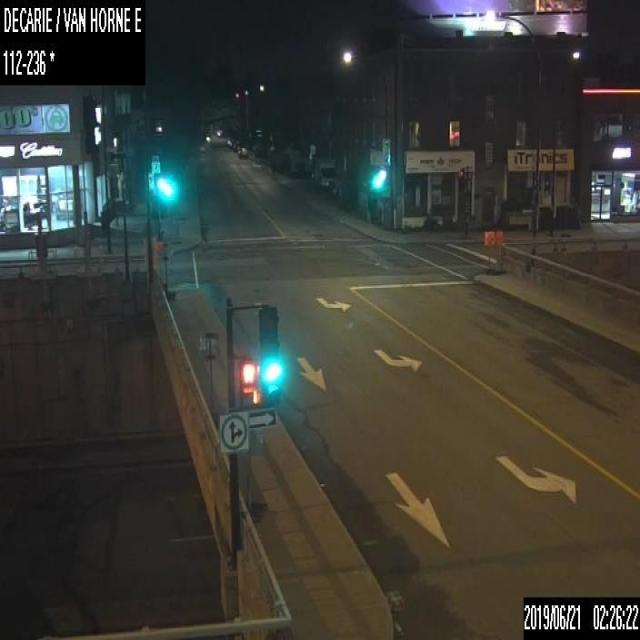construction: (199, 329, 222, 424), (242, 426, 264, 520), (494, 228, 506, 272), (484, 228, 493, 273)
vehicle: (314, 155, 334, 188), (238, 146, 247, 156), (233, 140, 241, 150)
